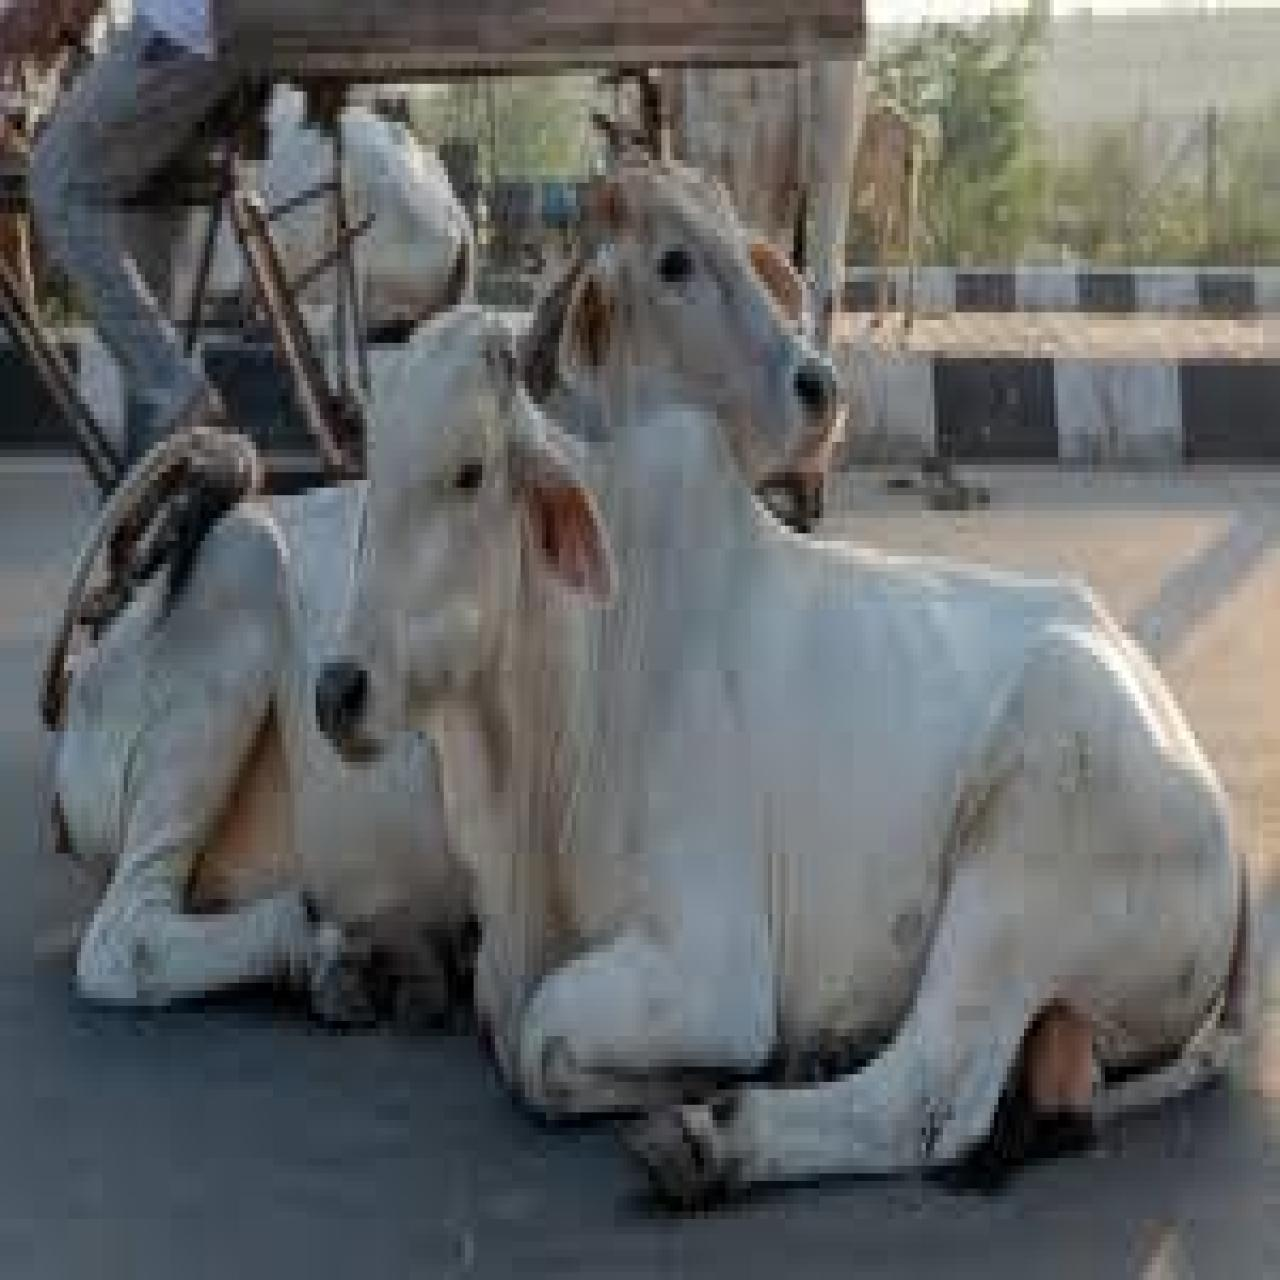cow: (312, 236, 1254, 1196), (36, 49, 846, 1009)
